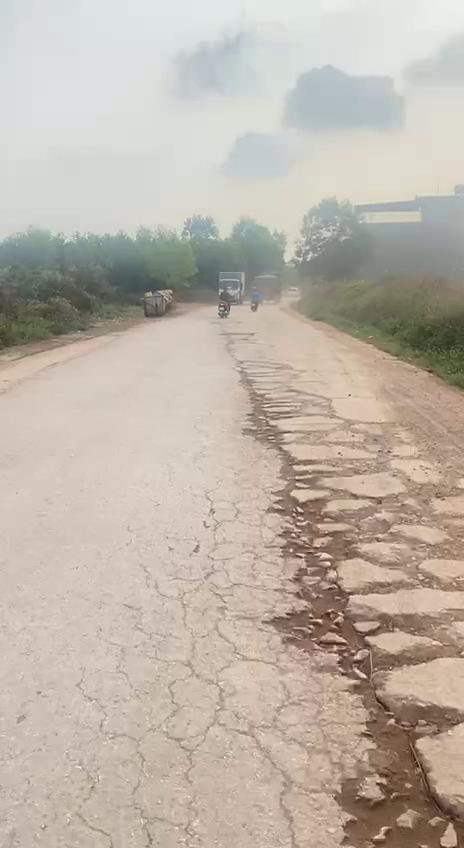pothole: (266, 591, 464, 848), (265, 452, 464, 606), (241, 368, 336, 459)
